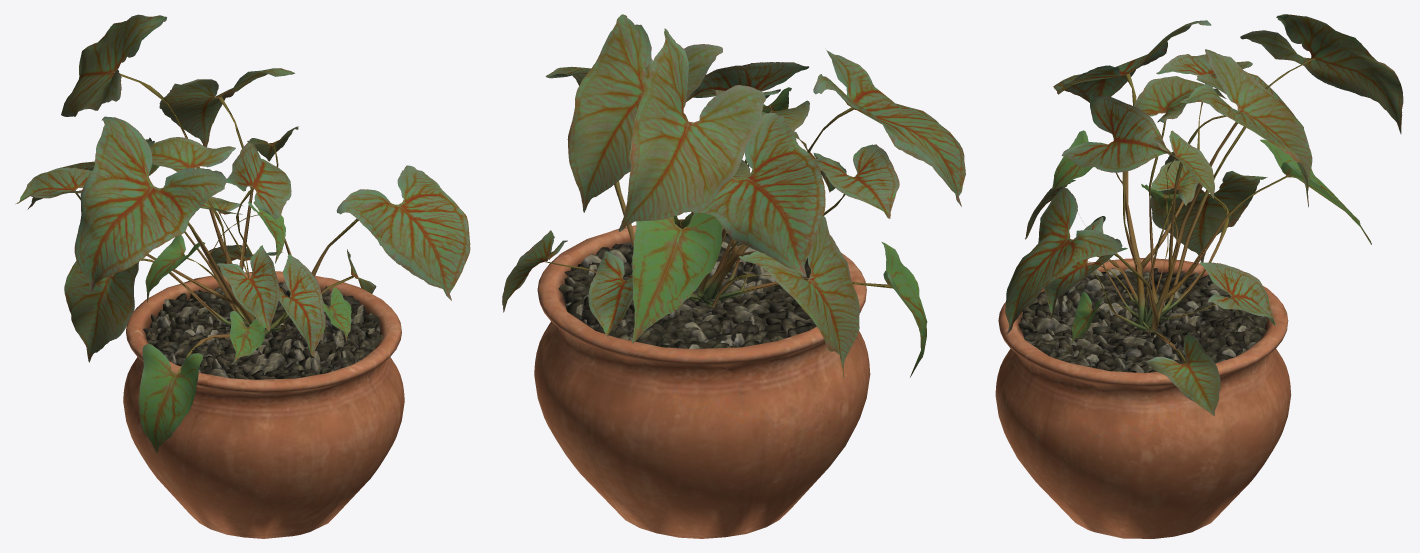
File: plant.glb
The picture shows the model from 3 angles, left to right: view 1: azimuth 30°, elevation 25°; view 2: azimuth 150°, elevation 25°; view 3: azimuth 270°, elevation 25°; orthographic projection. The views are drawn at different scales.
Parts seen in each view (by area): view 1: leaves, pot, dirt; view 2: leaves, pot, dirt; view 3: leaves, pot, dirt.
Part boxes in pixels (x1,y1,x2,y2): leaves: [15, 14, 470, 452]; pot: [123, 271, 404, 538]; dirt: [143, 282, 383, 379]; leaves: [502, 14, 965, 377]; pot: [534, 219, 870, 538]; dirt: [558, 233, 816, 348]; leaves: [1005, 14, 1403, 416]; pot: [995, 258, 1291, 538]; dirt: [1018, 268, 1267, 372].
Size of the model in its own units: 0.7012 by 0.8412 by 0.6574.
Materials: 2 (2 with a texture image).
